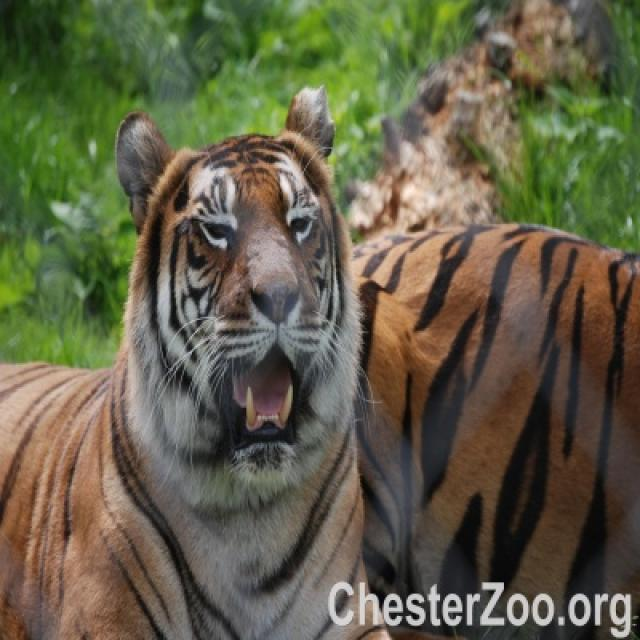Tiger: (2, 83, 390, 638)
